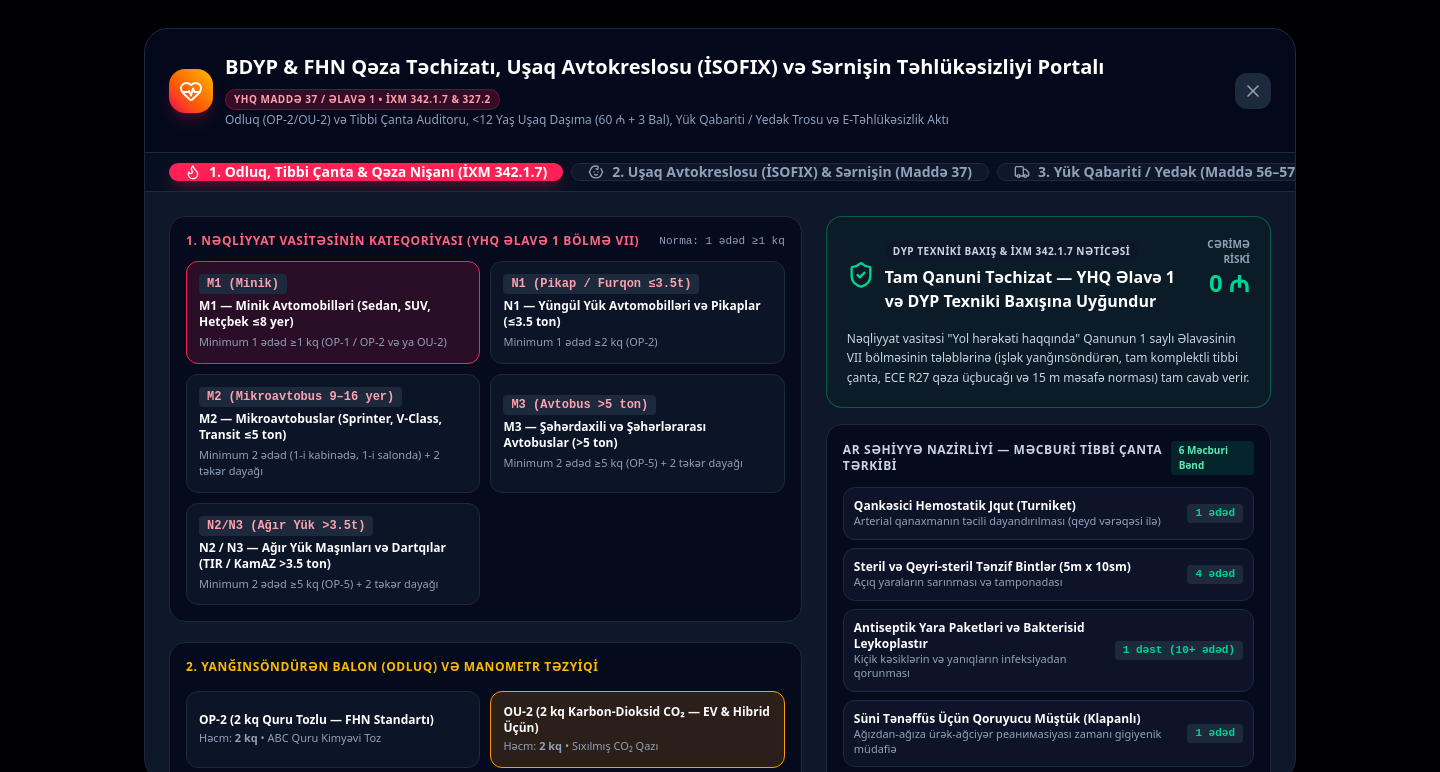
Test: PassengerSafetyModal Component › switches to Tab 2 (Child Restraint System & Passenger Auditor) and detects front seat <12 yr violation and airbag hazard
Click the button with test id "tab-child-crs" at x=780, y=172, box x1=571 y1=163 x2=989 y2=181
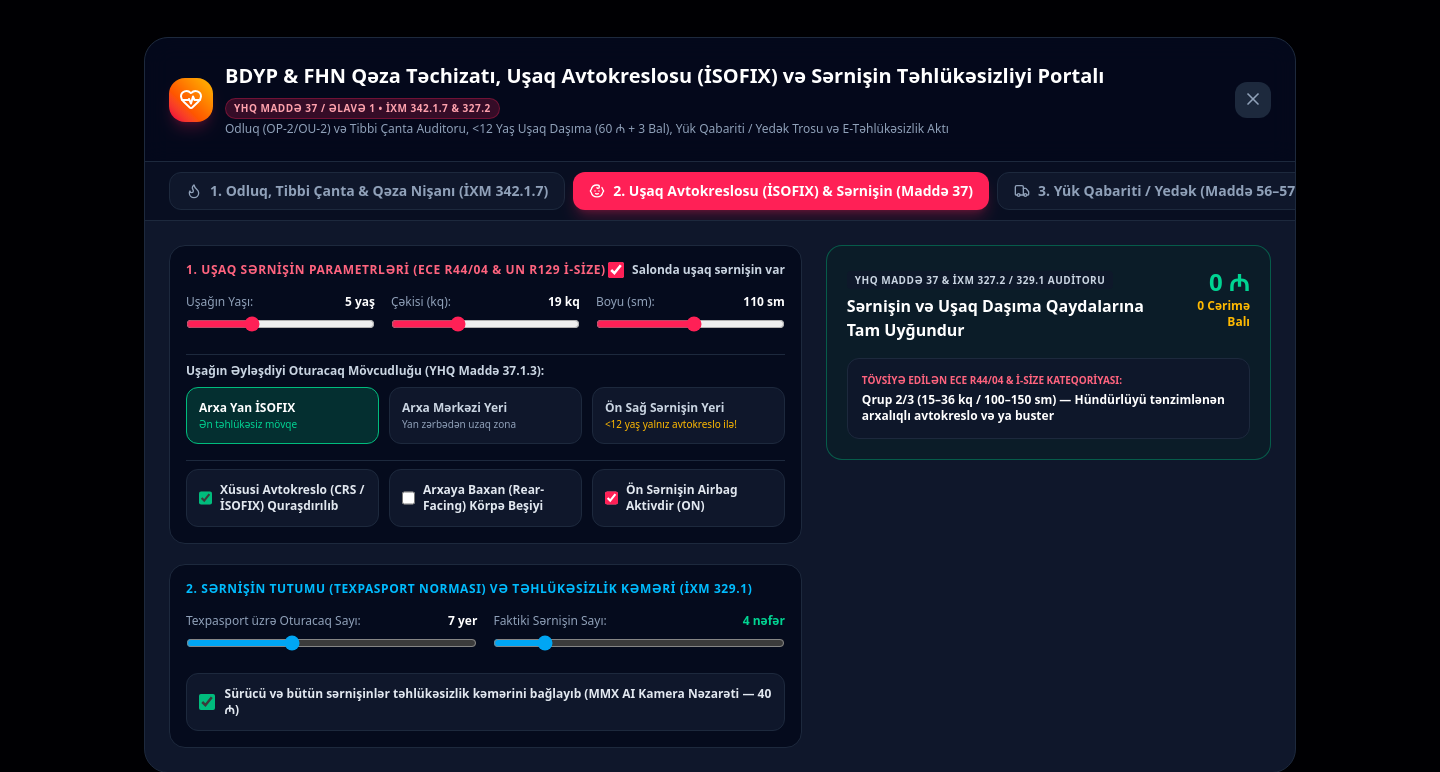
expect the text with test id "child-fine-total" reads "0 ₼": met, box x1=1209 y1=265 x2=1250 y2=298
// Move child to front passenger seat and uncheck CRS
Click the button with test id "seat-pos-front" at x=688, y=415, box x1=592 y1=387 x2=785 y2=444
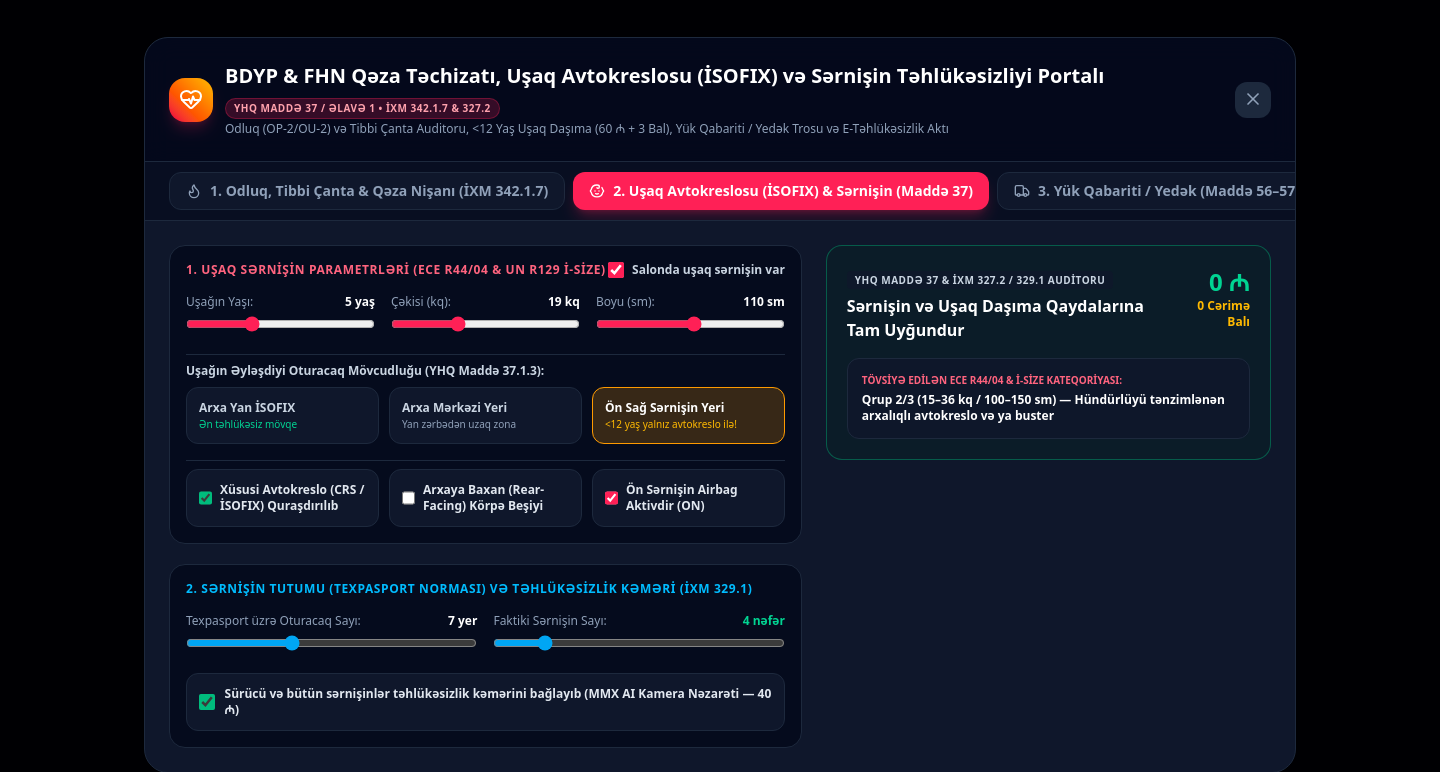
Click the checkbox with test id "toggle-has-crs" at x=206, y=498, box x1=199 y1=490 x2=212 y2=506
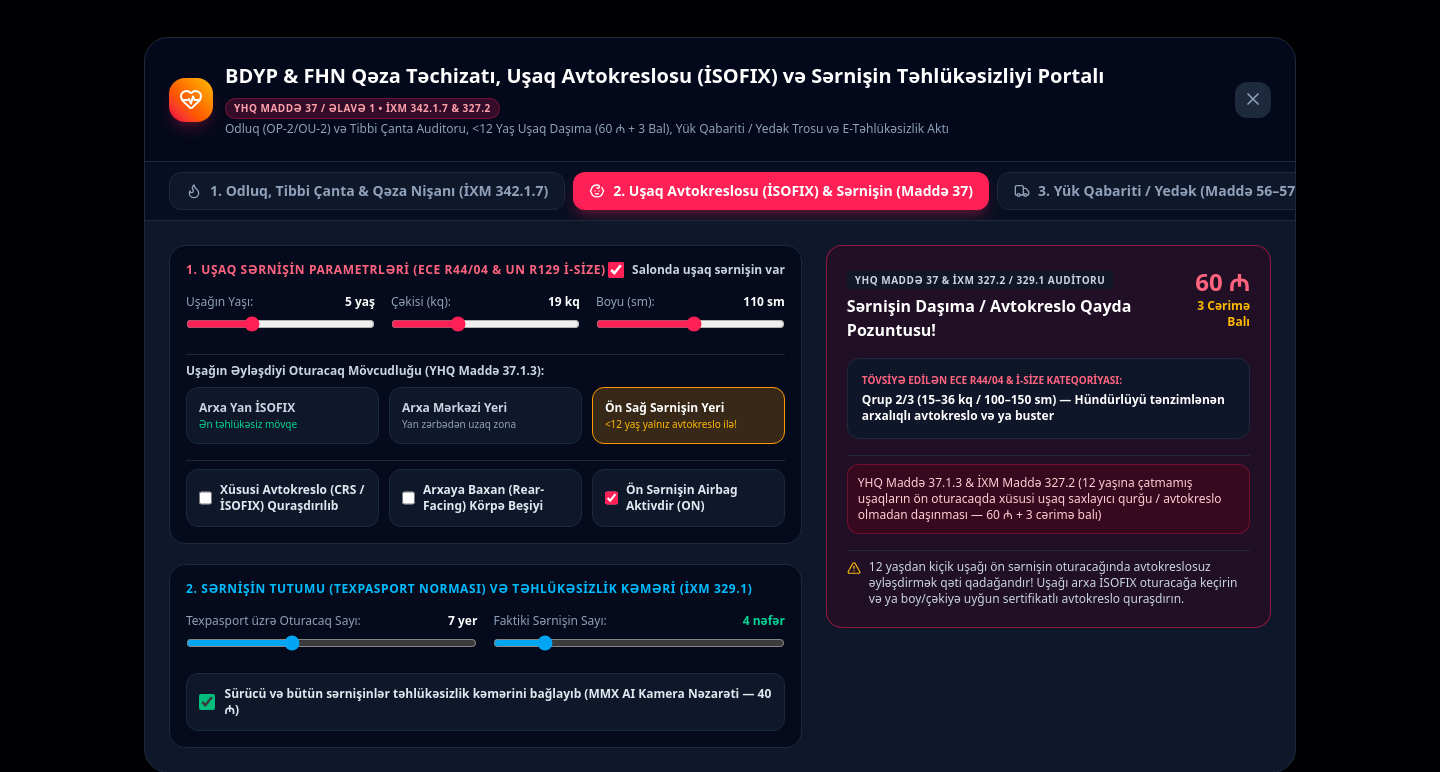
expect the text with test id "child-fine-total" reads "60 ₼": met, box x1=1195 y1=265 x2=1250 y2=298
expect the text with test id "child-penalty-points" reads "3 Cərimə Balı": met, box x1=1197 y1=297 x2=1250 y2=330
Click the checkbox with test id "toggle-rear-facing" at x=408, y=498, box x1=402 y1=490 x2=415 y2=506
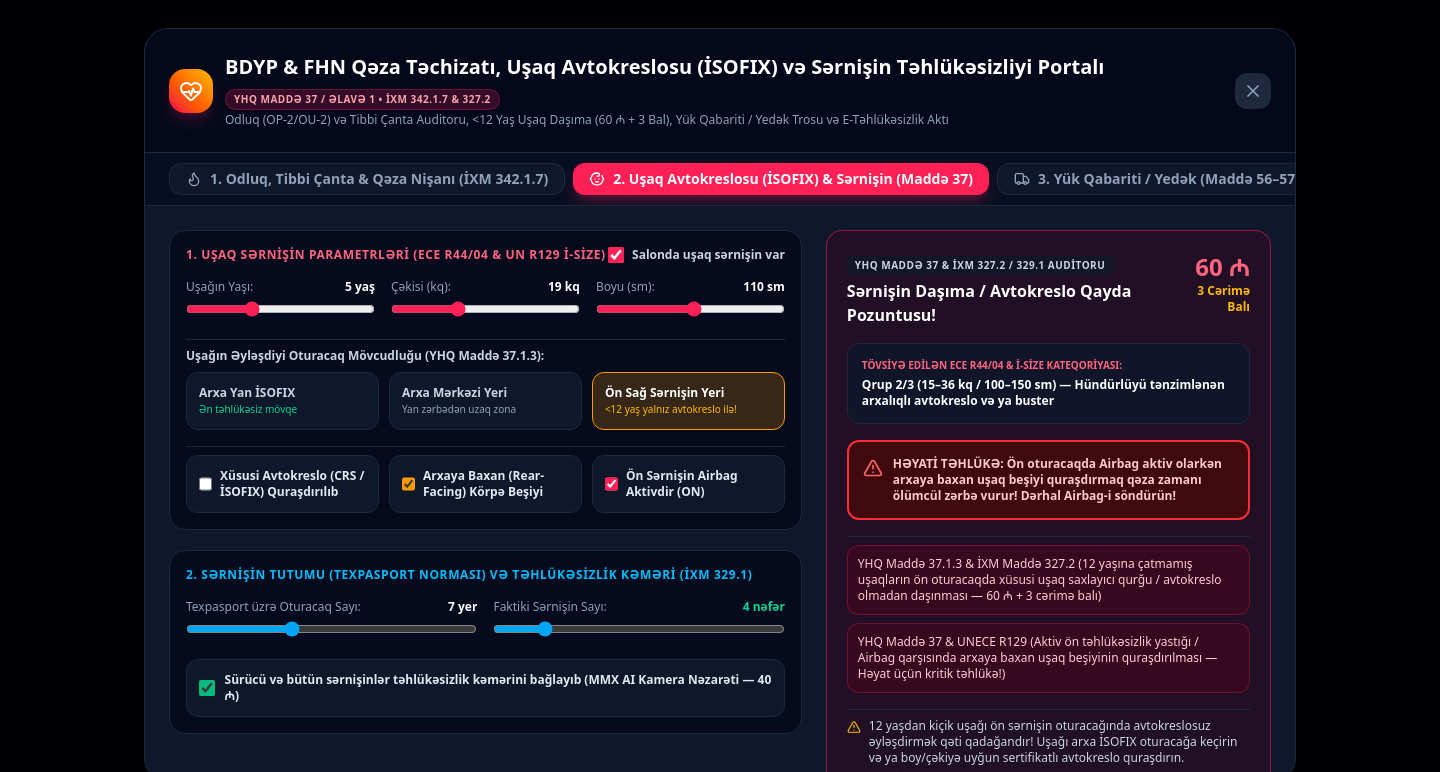
expect the element with test id "airbag-hazard-banner" is shown: met, box x1=847 y1=440 x2=1250 y2=520
